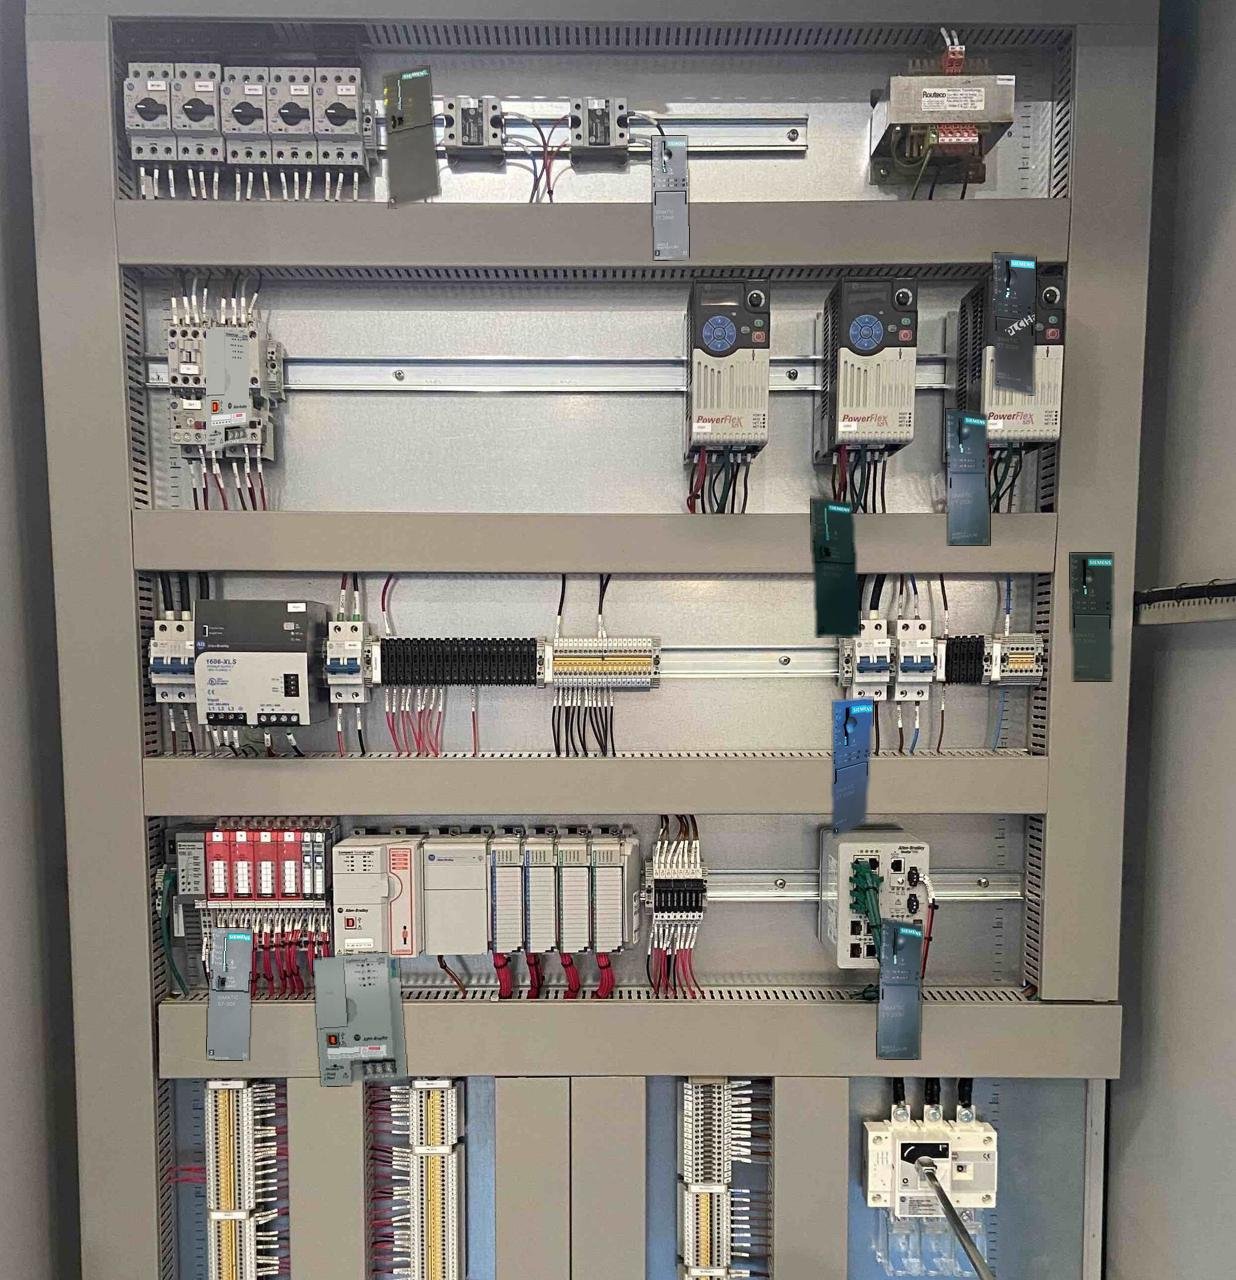AllenBradley: (313, 953, 406, 1086), (206, 327, 248, 450)
Siemens: (383, 65, 439, 208), (811, 497, 859, 635), (207, 927, 252, 1061)
